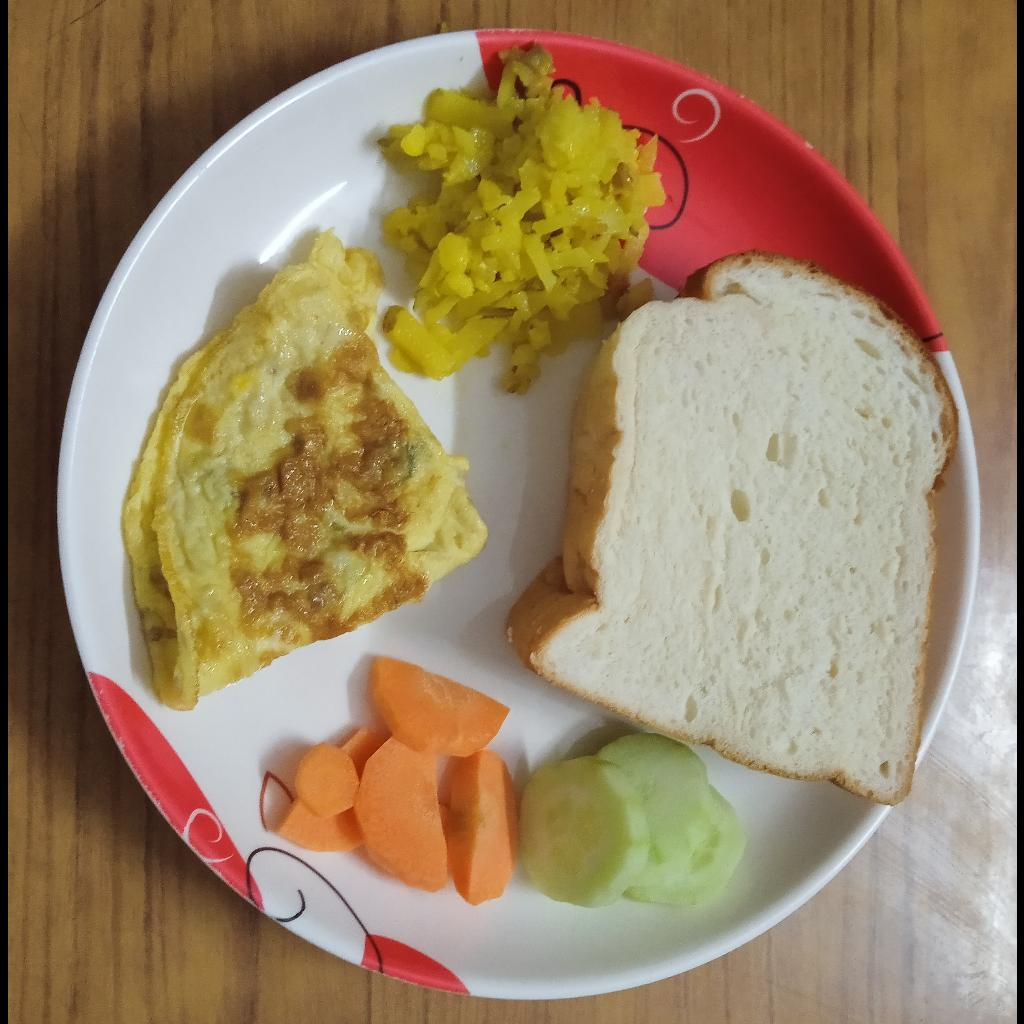bread: (505, 257, 954, 798)
cabbage: (380, 42, 671, 396)
carrot: (277, 657, 517, 905)
cucumber: (518, 733, 745, 907)
egg-poached: (128, 236, 481, 710)
